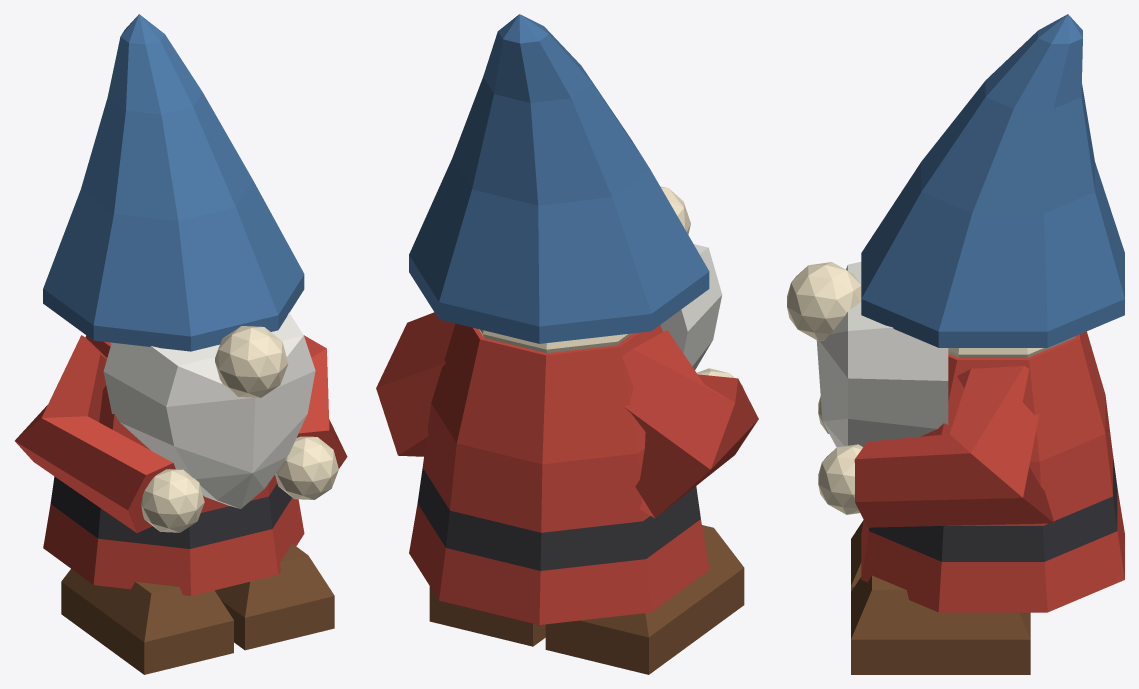
The model's file is FMS_Garden_Gnome_Blue.fbx.
3 views of the same model, side by side, from view 1: azimuth 30°, elevation 25°; view 2: azimuth 150°, elevation 25°; view 3: azimuth 270°, elevation 25° (orthographic). The views are drawn at different scales.
Visible parts, largest first — view 1: FMS_Garden_Gnome_Blue_Body; view 2: FMS_Garden_Gnome_Blue_Body; view 3: FMS_Garden_Gnome_Blue_Body.
Boxes of the visible parts, bbox=[...] form: FMS_Garden_Gnome_Blue_Body: bbox=[15, 14, 347, 674]; FMS_Garden_Gnome_Blue_Body: bbox=[376, 14, 758, 674]; FMS_Garden_Gnome_Blue_Body: bbox=[787, 14, 1124, 674].
Size of the model in its own units: 0.2429 by 0.45 by 0.2257.
